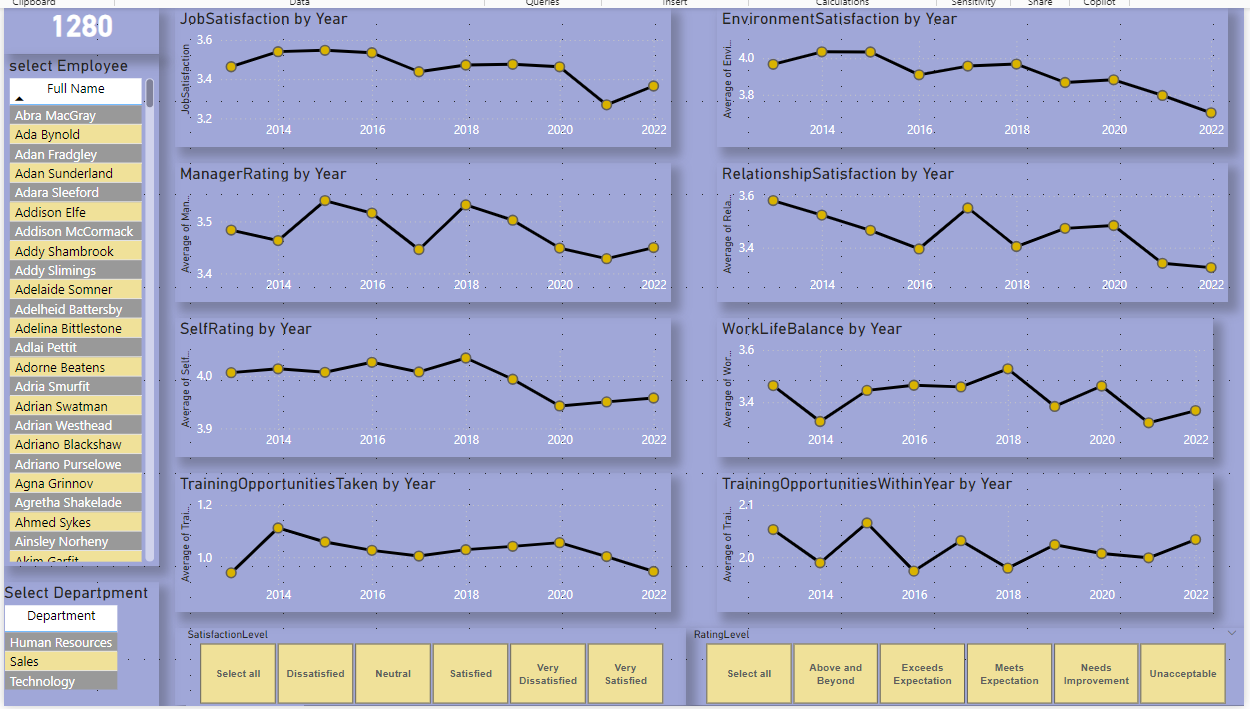

The dashboard page shown, as its layout file describes it:
{"tool":"powerbi","page":{"name":"performance","canvas":[1280,720],"ordinal":1},"visuals":[{"type":"tableEx","title":"select Employee","fields":{"Values":["Employee.Full Name"]},"box":[0,48,160,528],"z":0},{"type":"slicer","fields":{"Values":["SatisfiedLevel.SatisfactionLevel"]},"box":[176,640,528,80],"z":1000},{"type":"slicer","fields":{"Values":["RatingLevel.RatingLevel"]},"box":[704,640,576,80],"z":2000},{"type":"lineChart","fields":{"Category":["PerformanceRating.ReviewDate.Variation.Date Hierarchy.Year"],"Y":["Avg(PerformanceRating.JobSatisfaction)"]},"box":[176,0,512,144],"z":3000},{"type":"lineChart","title":"EnvironmentSatisfaction by Year","fields":{"Category":["PerformanceRating.ReviewDate.Variation.Date Hierarchy.Year"],"Y":["Avg(PerformanceRating.EnvironmentSatisfaction)"]},"box":[736,0,528,144],"z":4000},{"type":"lineChart","title":"ManagerRating by Year","fields":{"Category":["PerformanceRating.ReviewDate.Variation.Date Hierarchy.Year"],"Y":["Avg(PerformanceRating.ManagerRating)"]},"box":[176,160,512,144],"z":5000},{"type":"lineChart","title":"RelationshipSatisfaction by Year","fields":{"Category":["PerformanceRating.ReviewDate.Variation.Date Hierarchy.Year"],"Y":["Avg(PerformanceRating.RelationshipSatisfaction)"]},"box":[736,160,528,144],"z":6000},{"type":"lineChart","title":"SelfRating by Year","fields":{"Category":["PerformanceRating.ReviewDate.Variation.Date Hierarchy.Year"],"Y":["Avg(PerformanceRating.SelfRating)"]},"box":[176,320,512,144],"z":7000},{"type":"lineChart","title":"WorkLifeBalance by Year","fields":{"Category":["PerformanceRating.ReviewDate.Variation.Date Hierarchy.Year"],"Y":["Avg(PerformanceRating.WorkLifeBalance)"]},"box":[736,320,512,144],"z":8000},{"type":"lineChart","title":"TrainingOpportunitiesWithinYear by Year","fields":{"Category":["PerformanceRating.ReviewDate.Variation.Date Hierarchy.Year"],"Y":["Avg(PerformanceRating.TrainingOpportunitiesWithinYear)"]},"box":[736,480,512,144],"z":9000},{"type":"lineChart","title":"TrainingOpportunitiesTaken by Year","fields":{"Category":["PerformanceRating.ReviewDate.Variation.Date Hierarchy.Year"],"Y":["Avg(PerformanceRating.TrainingOpportunitiesTaken)"]},"box":[176,480,512,144],"z":10000},{"type":"tableEx","title":"Select Departpment ","fields":{"Values":["Employee.Department"]},"box":[0,592,160,128],"z":11000},{"type":"card","fields":{"Values":["Count(PerformanceRating.EmployeeID)"]},"box":[0,0,160,48],"z":12000}]}

Visuals, with their boxes on the page's 1280x720 design canvas (x1, y1, x2, y2). These are canvas units, not pixel positions in the 1250x709 screenshot, which may show the page scaled, cropped or inside an application window:
"select Employee" tableEx: crop(0, 48, 160, 576)
slicer - SatisfiedLevel.SatisfactionLevel: crop(176, 640, 704, 720)
slicer - RatingLevel.RatingLevel: crop(704, 640, 1280, 720)
lineChart - PerformanceRating.ReviewDate.Variation.Date Hierarchy.Year x Avg(PerformanceRating.JobSatisfaction): crop(176, 0, 688, 144)
"EnvironmentSatisfaction by Year" lineChart: crop(736, 0, 1264, 144)
"ManagerRating by Year" lineChart: crop(176, 160, 688, 304)
"RelationshipSatisfaction by Year" lineChart: crop(736, 160, 1264, 304)
"SelfRating by Year" lineChart: crop(176, 320, 688, 464)
"WorkLifeBalance by Year" lineChart: crop(736, 320, 1248, 464)
"TrainingOpportunitiesWithinYear by Year" lineChart: crop(736, 480, 1248, 624)
"TrainingOpportunitiesTaken by Year" lineChart: crop(176, 480, 688, 624)
"Select Departpment " tableEx: crop(0, 592, 160, 720)
card - Count(PerformanceRating.EmployeeID): crop(0, 0, 160, 48)
